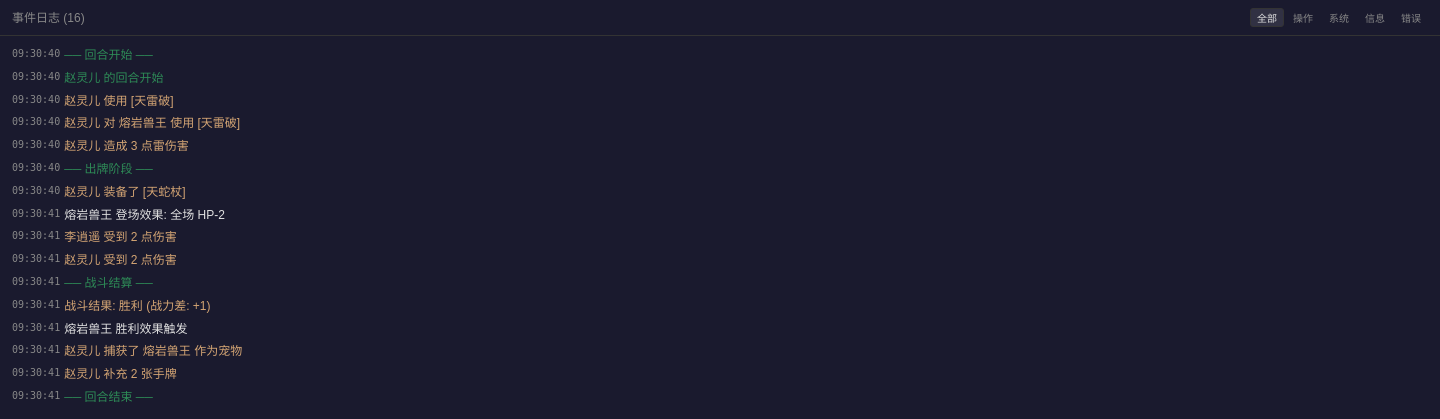
Test: EventLog › filtering › should filter to system entries only
Click the button "系统" at (1339, 18), box [1322, 8, 1356, 27]
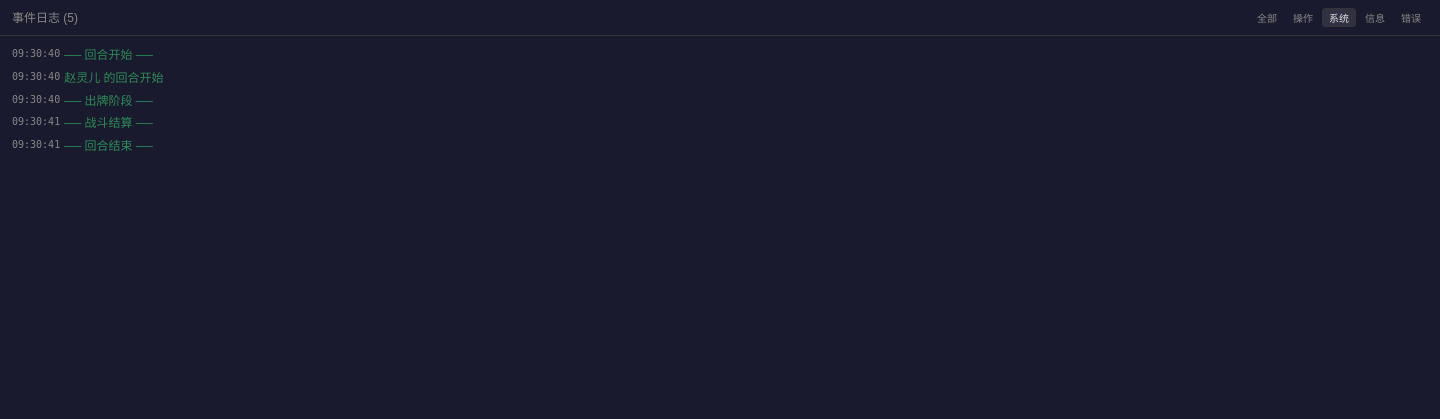
Expected: the text "── 回合开始 ──" is shown, [64, 47, 153, 64]
Result: the text "赵灵儿 使用 [天雷破]" is gone
